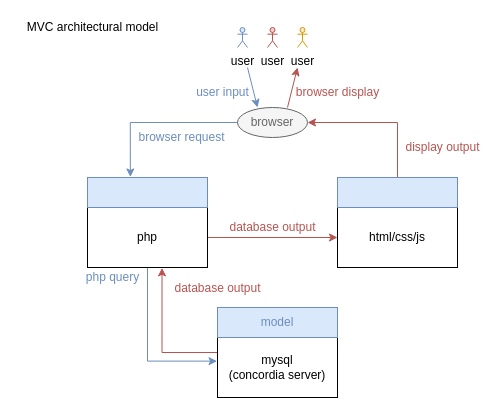
Image size: 504x415. Some labels were removed from this diagram. Each missing label, with the centre of its shape:
"controller" belongs at pixel 147 192.
"view" belongs at pixel 397 192.
